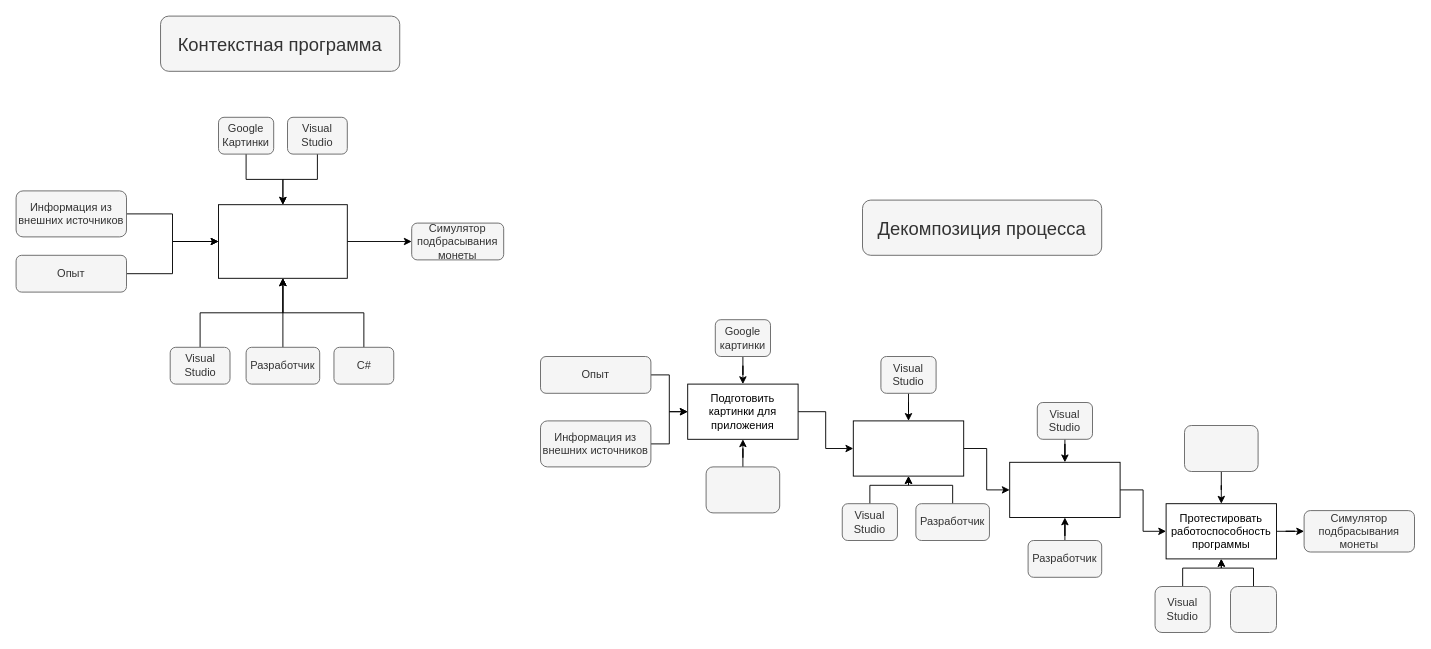
Some shapes in this 1431 by 649 pixel diagram are drawn without their labels. Each missing label, with the centre of its shape:
"Добавить картинки в Visual Studio" belongs at point 908,448.
"Написать код для программы" belongs at point 1064,489.
"ПК с ОС" belongs at point 1253,609.
"Симуляция подбрасывания монеты" belongs at point 282,241.
"Тестировщик" belongs at point 1221,448.
"Фотошоп" belongs at point 742,489.
